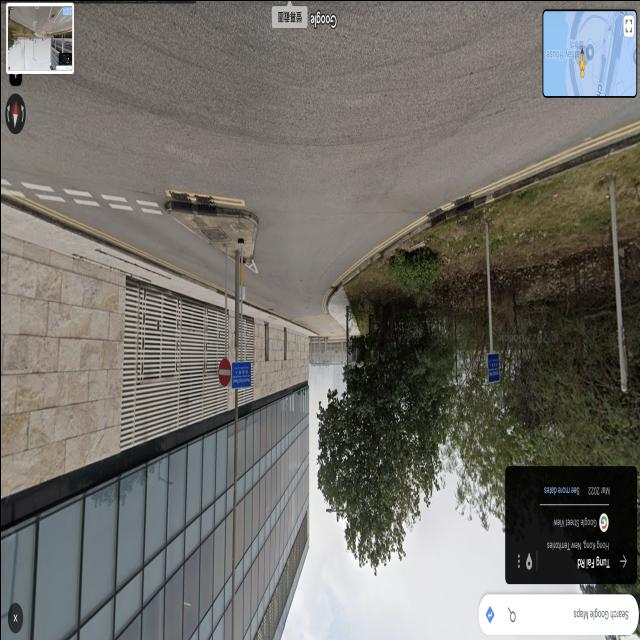Order-Sign: (218, 362, 228, 384)
